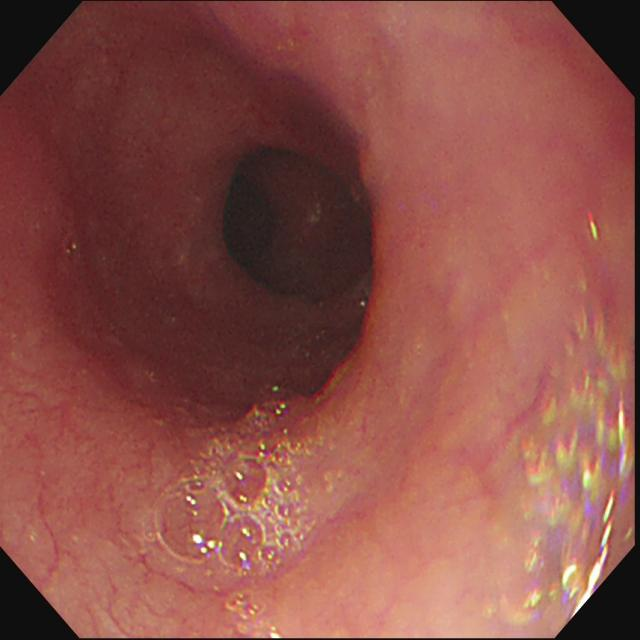E: (213, 142, 376, 310)
T: (153, 384, 328, 576), (222, 589, 267, 638)
U: (510, 335, 635, 624)
